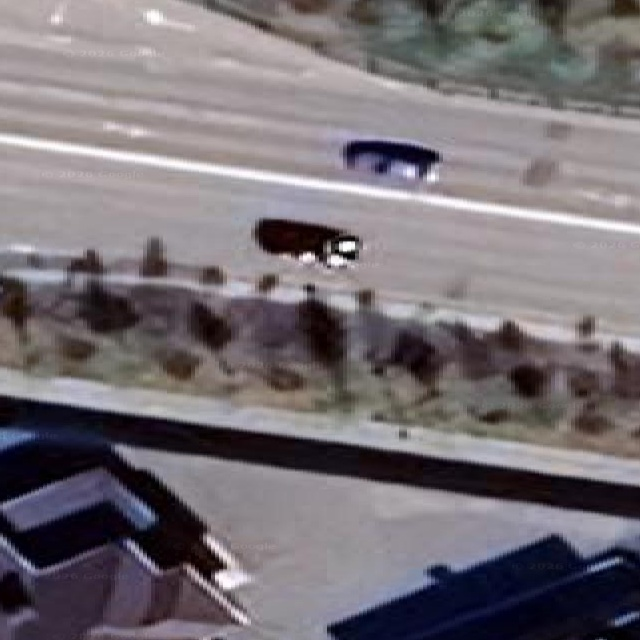car: (253, 218, 362, 268), (342, 139, 441, 182)
